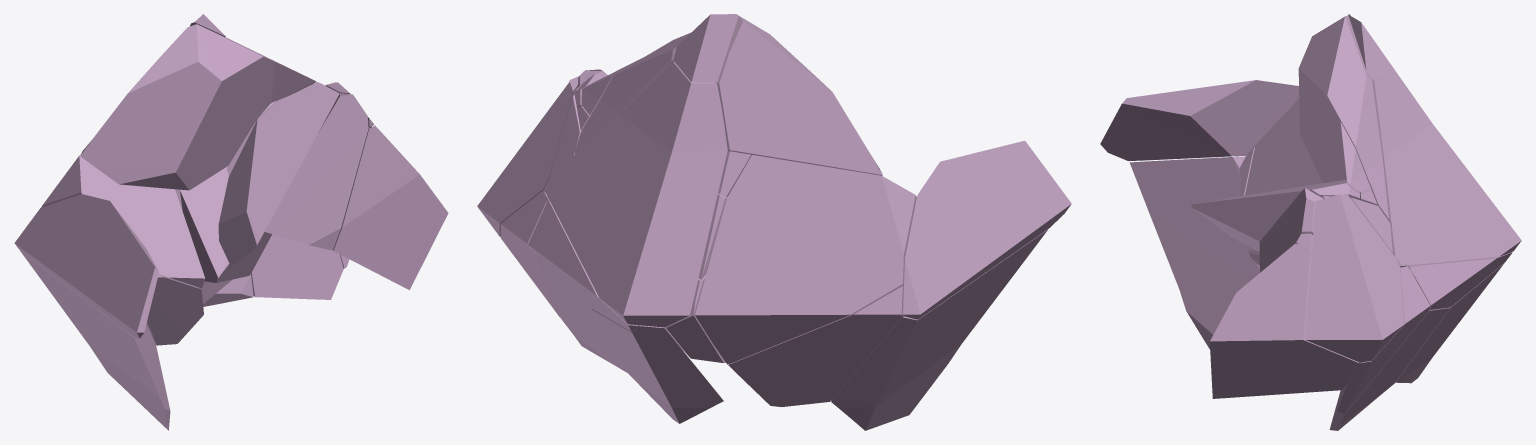
The model's file is crystal_right.fbx.
3 renders of one model, left to right at view 1: azimuth 30°, elevation 25°; view 2: azimuth 150°, elevation 25°; view 3: azimuth 270°, elevation 25°, orthographic. The views are drawn at different scales.
Visible parts, largest first — view 1: crystal_piece_right; view 2: crystal_piece_right; view 3: crystal_piece_right.
Part boxes in pixels (bbox=[...]): crystal_piece_right: bbox=[14, 14, 448, 430]; crystal_piece_right: bbox=[477, 14, 1071, 430]; crystal_piece_right: bbox=[1100, 14, 1521, 430].
Bounding box in the file's own units: 83.62 × 77.22 × 74.89.
